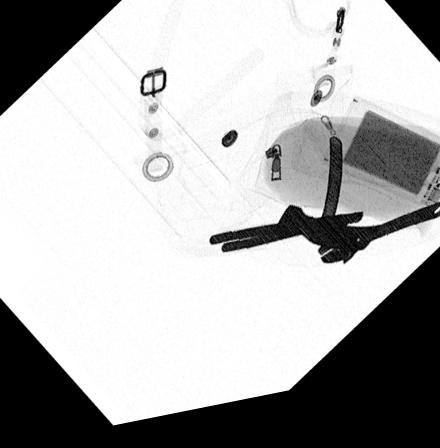Hammer: (276, 148, 374, 266)
Pliers: (208, 225, 365, 262)
Powerbank: (320, 109, 440, 231)
Wrench: (315, 219, 440, 279)
